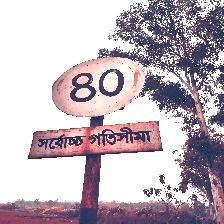Speed-limit: (30, 54, 159, 159)
